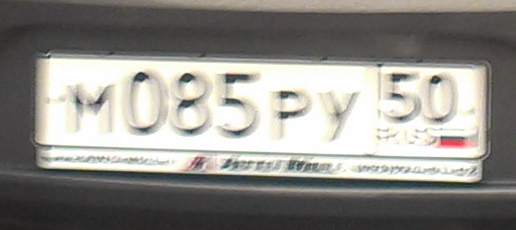character: (123, 67, 166, 142), (216, 68, 261, 139), (171, 68, 212, 140), (71, 77, 118, 138), (270, 85, 314, 146), (320, 85, 362, 146), (384, 69, 421, 126), (424, 70, 459, 127)
